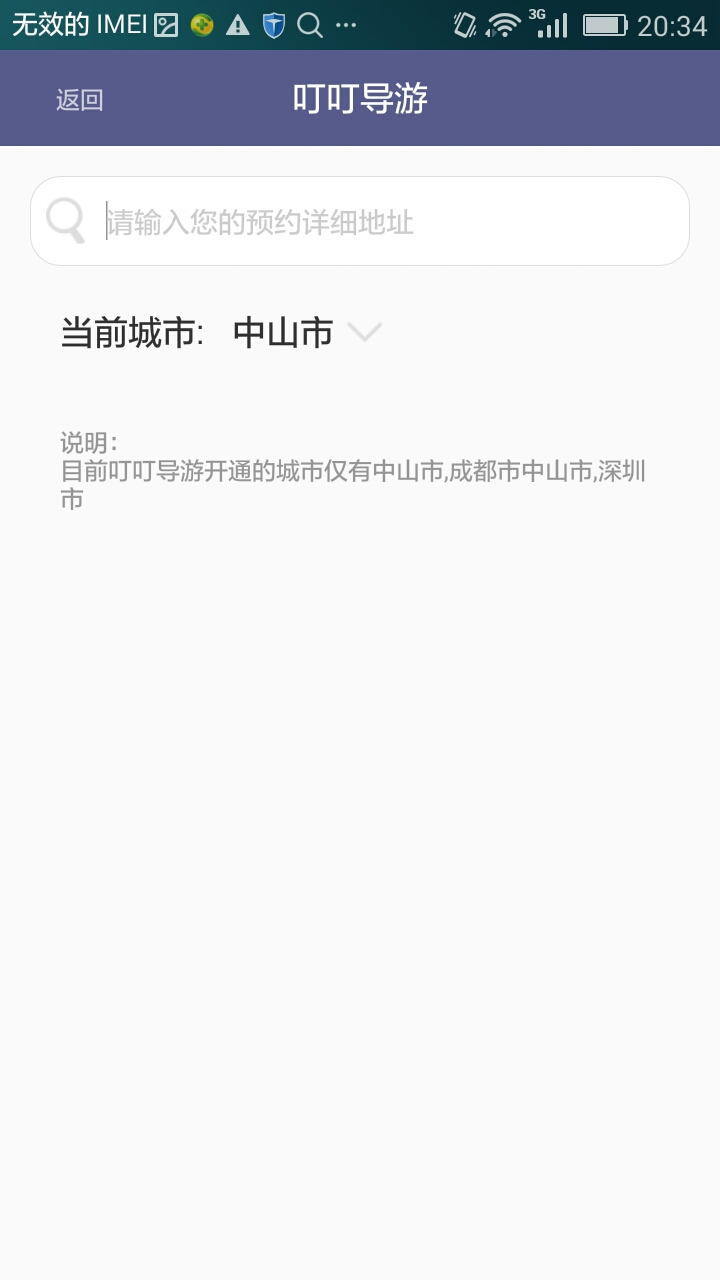imgbutton: (339, 299, 394, 361)
textview: (24, 173, 695, 271)
